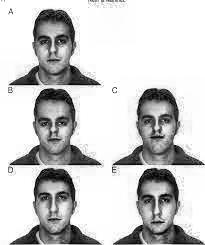happy: (34, 86, 72, 155)
